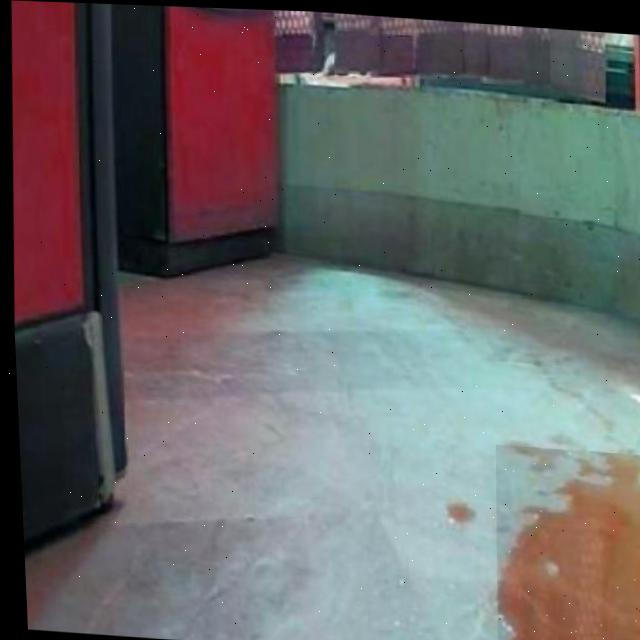spillage: (492, 450, 640, 640)
